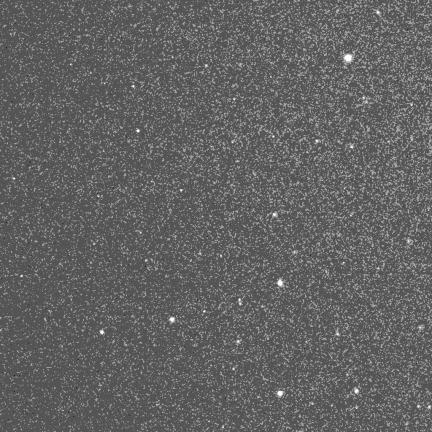blob: (344, 54, 352, 62), (278, 279, 284, 287), (278, 391, 284, 397), (273, 212, 278, 217), (354, 389, 359, 394), (170, 317, 175, 322), (336, 331, 340, 336), (376, 11, 380, 15), (12, 177, 16, 181), (100, 330, 104, 334), (417, 405, 421, 409), (236, 340, 240, 344), (145, 259, 149, 263), (132, 85, 135, 89), (136, 129, 140, 132), (180, 189, 184, 192), (203, 310, 206, 314), (428, 405, 431, 409), (220, 254, 223, 258), (363, 96, 366, 100), (351, 145, 354, 149), (21, 275, 24, 278), (411, 103, 414, 106), (70, 63, 73, 66), (273, 135, 276, 138), (205, 64, 208, 67), (233, 368, 235, 371)
